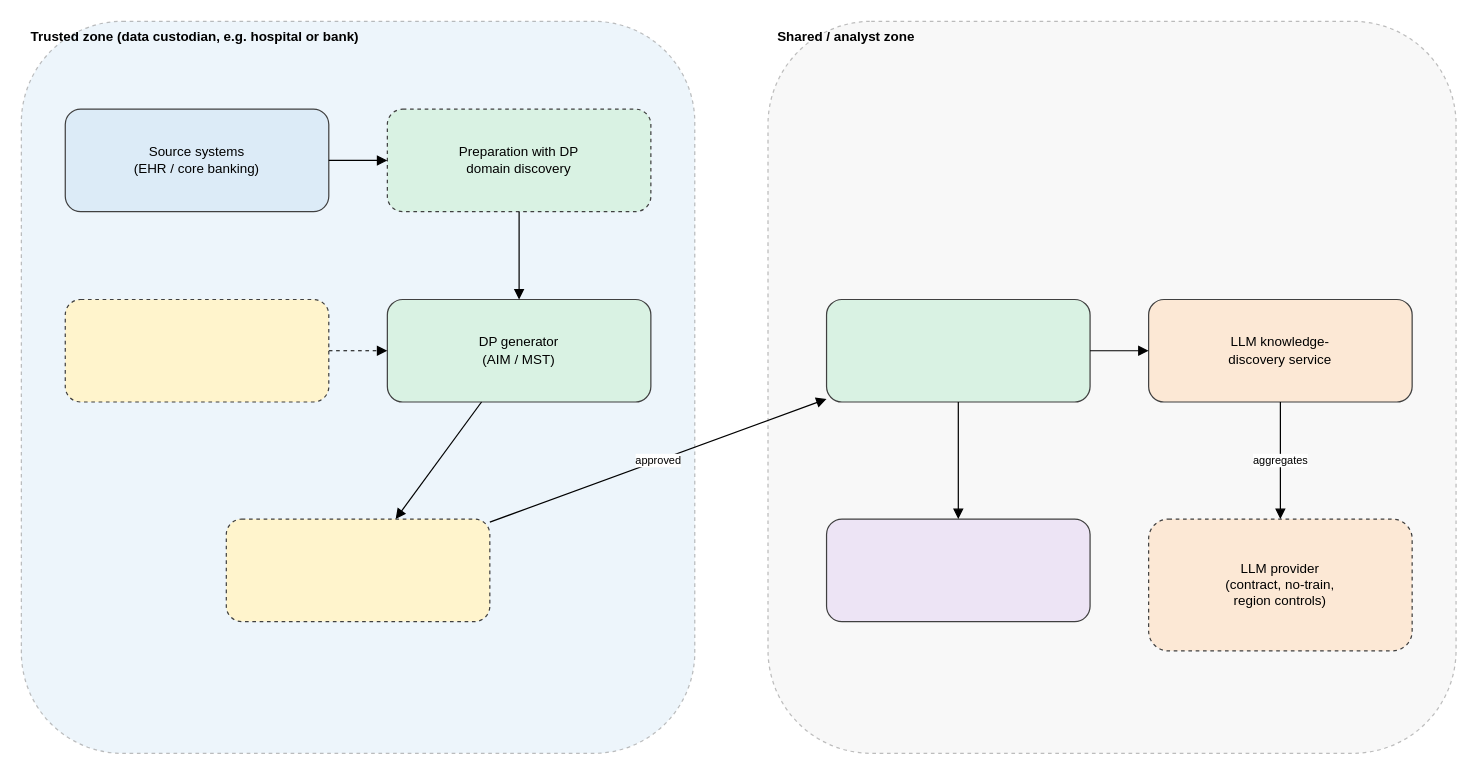
This 1477x775 diagram has some shape labels left out. Each missing label, with the centre of its shape:
"BI / ML teams" goes at (957,570).
"Privacy budget ledger (per dataset, per release)" goes at (196,350).
"Release review (DPO / ethics)" goes at (357,570).
"Synthetic data catalogue" goes at (957,350).
